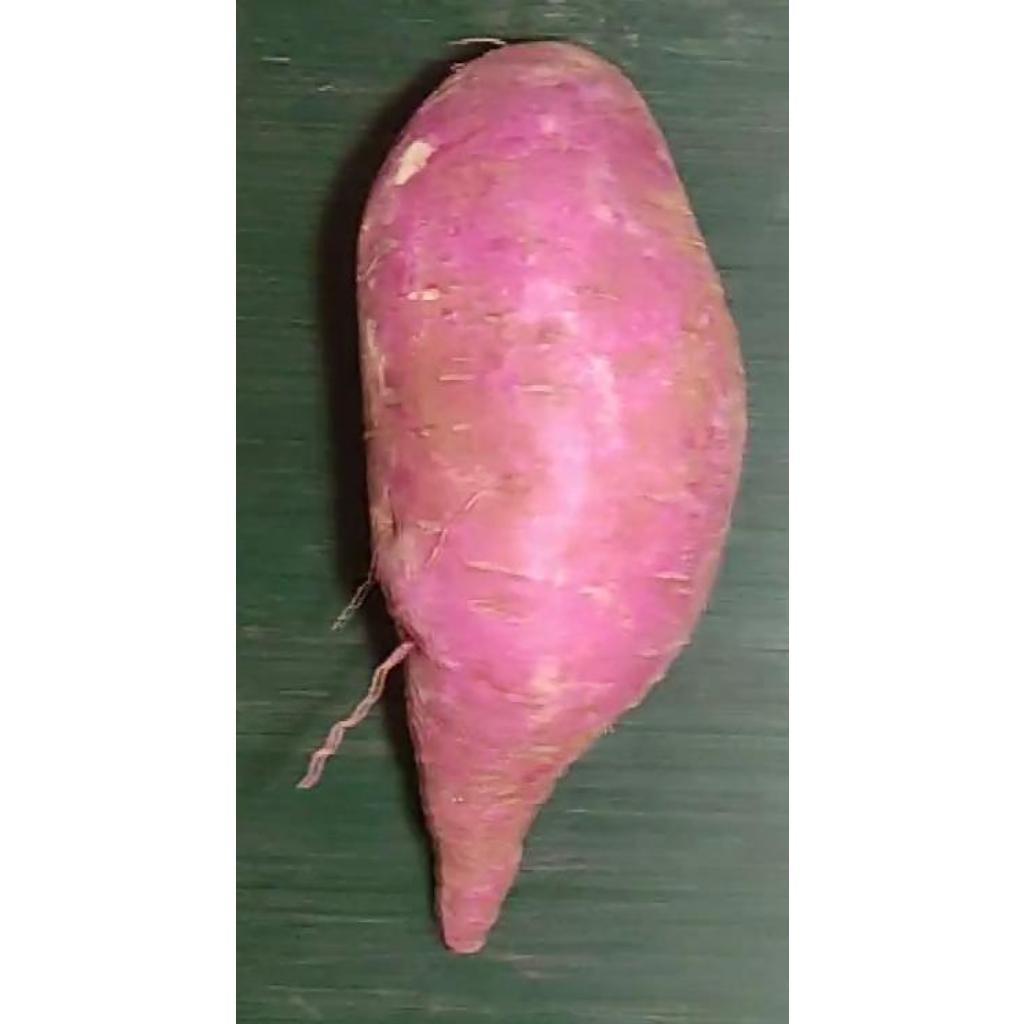Sweet Potato: (352, 41, 747, 959)
